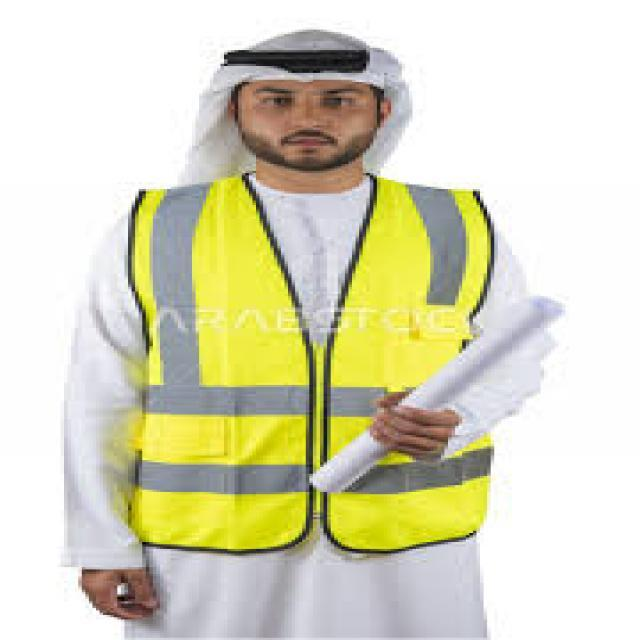Vest: (106, 175, 516, 555)
